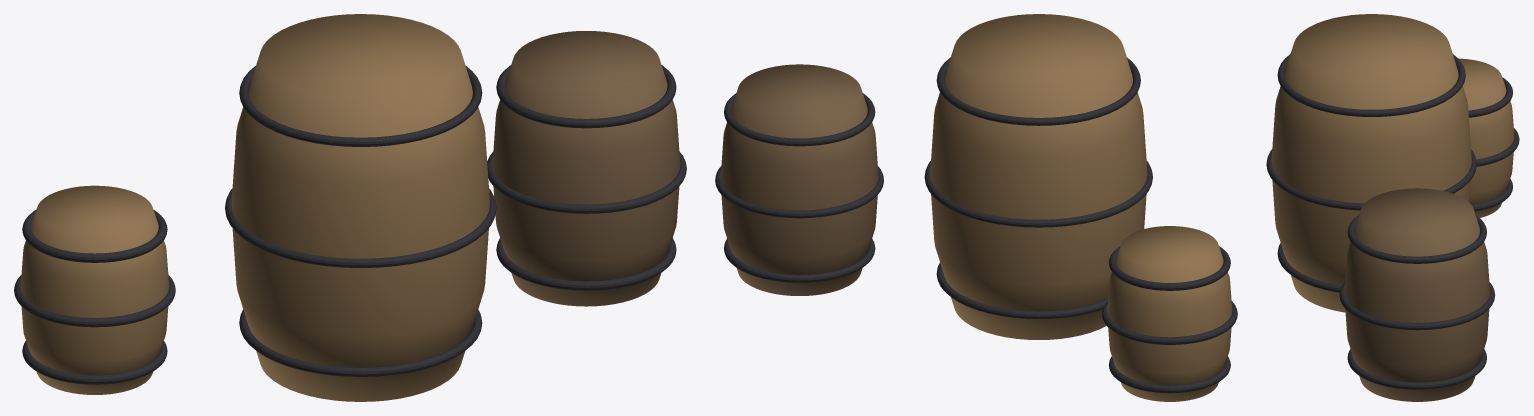
The model's file is barrels-set.glb.
3 renders of one model, left to right at view 1: azimuth 30°, elevation 25°; view 2: azimuth 150°, elevation 25°; view 3: azimuth 270°, elevation 25°, orthographic. The views are drawn at different scales.
Parts seen in each view (by area): view 1: barrel, barrel.001, barrel.002, hoop.001, hoop.002, hoop, hoop.004, hoop.005, hoop.003, hoop.007, hoop.008, hoop.006; view 2: barrel, barrel.001, barrel.002, hoop.001, hoop.002, hoop.004, hoop.005, hoop, hoop.003, hoop.007, hoop.008, hoop.006; view 3: barrel, barrel.001, barrel.002, hoop.002, hoop.004, hoop.005, hoop.003, hoop.001, hoop, hoop.008, hoop.007, hoop.006.
Part boxes in pixels (x1,y1,x2,y2): barrel: [231, 14, 489, 401]; barrel.001: [492, 31, 680, 306]; barrel.002: [20, 185, 169, 394]; hoop.001: [225, 188, 496, 267]; hoop.002: [239, 65, 482, 146]; hoop: [239, 309, 482, 376]; hoop.004: [487, 151, 686, 213]; hoop.005: [496, 65, 676, 128]; hoop.003: [496, 238, 676, 290]; hoop.007: [14, 275, 175, 327]; hoop.008: [22, 210, 167, 262]; hoop.006: [22, 341, 167, 384]; barrel: [930, 14, 1147, 339]; barrel.001: [720, 64, 878, 295]; barrel.002: [1107, 226, 1232, 401]; hoop.001: [924, 161, 1152, 227]; hoop.002: [936, 57, 1140, 125]; hoop.004: [715, 166, 883, 218]; hoop.005: [724, 93, 875, 146]; hoop: [936, 263, 1108, 318]; hoop.003: [724, 238, 875, 282]; hoop.007: [1102, 301, 1237, 344]; hoop.008: [1109, 246, 1230, 290]; hoop.006: [1109, 356, 1230, 393]; barrel: [1271, 14, 1471, 312]; barrel.001: [1344, 188, 1489, 401]; barrel.002: [1459, 58, 1514, 217]; hoop.002: [1277, 54, 1465, 116]; hoop.004: [1339, 282, 1495, 330]; hoop.005: [1347, 215, 1486, 263]; hoop.003: [1347, 349, 1486, 389]; hoop.001: [1266, 149, 1476, 210]; hoop: [1277, 243, 1341, 292]; hoop.008: [1468, 77, 1512, 117]; hoop.007: [1476, 128, 1519, 166]; hoop.006: [1471, 179, 1512, 211].
Bounding box in the file's own units: 1.83 × 0.85 × 0.832.
